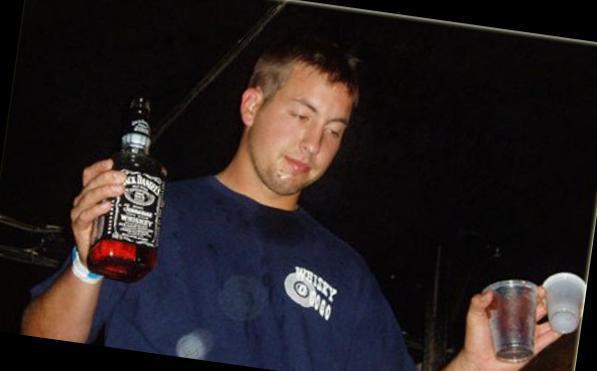Drunk: (264, 67, 345, 186)
